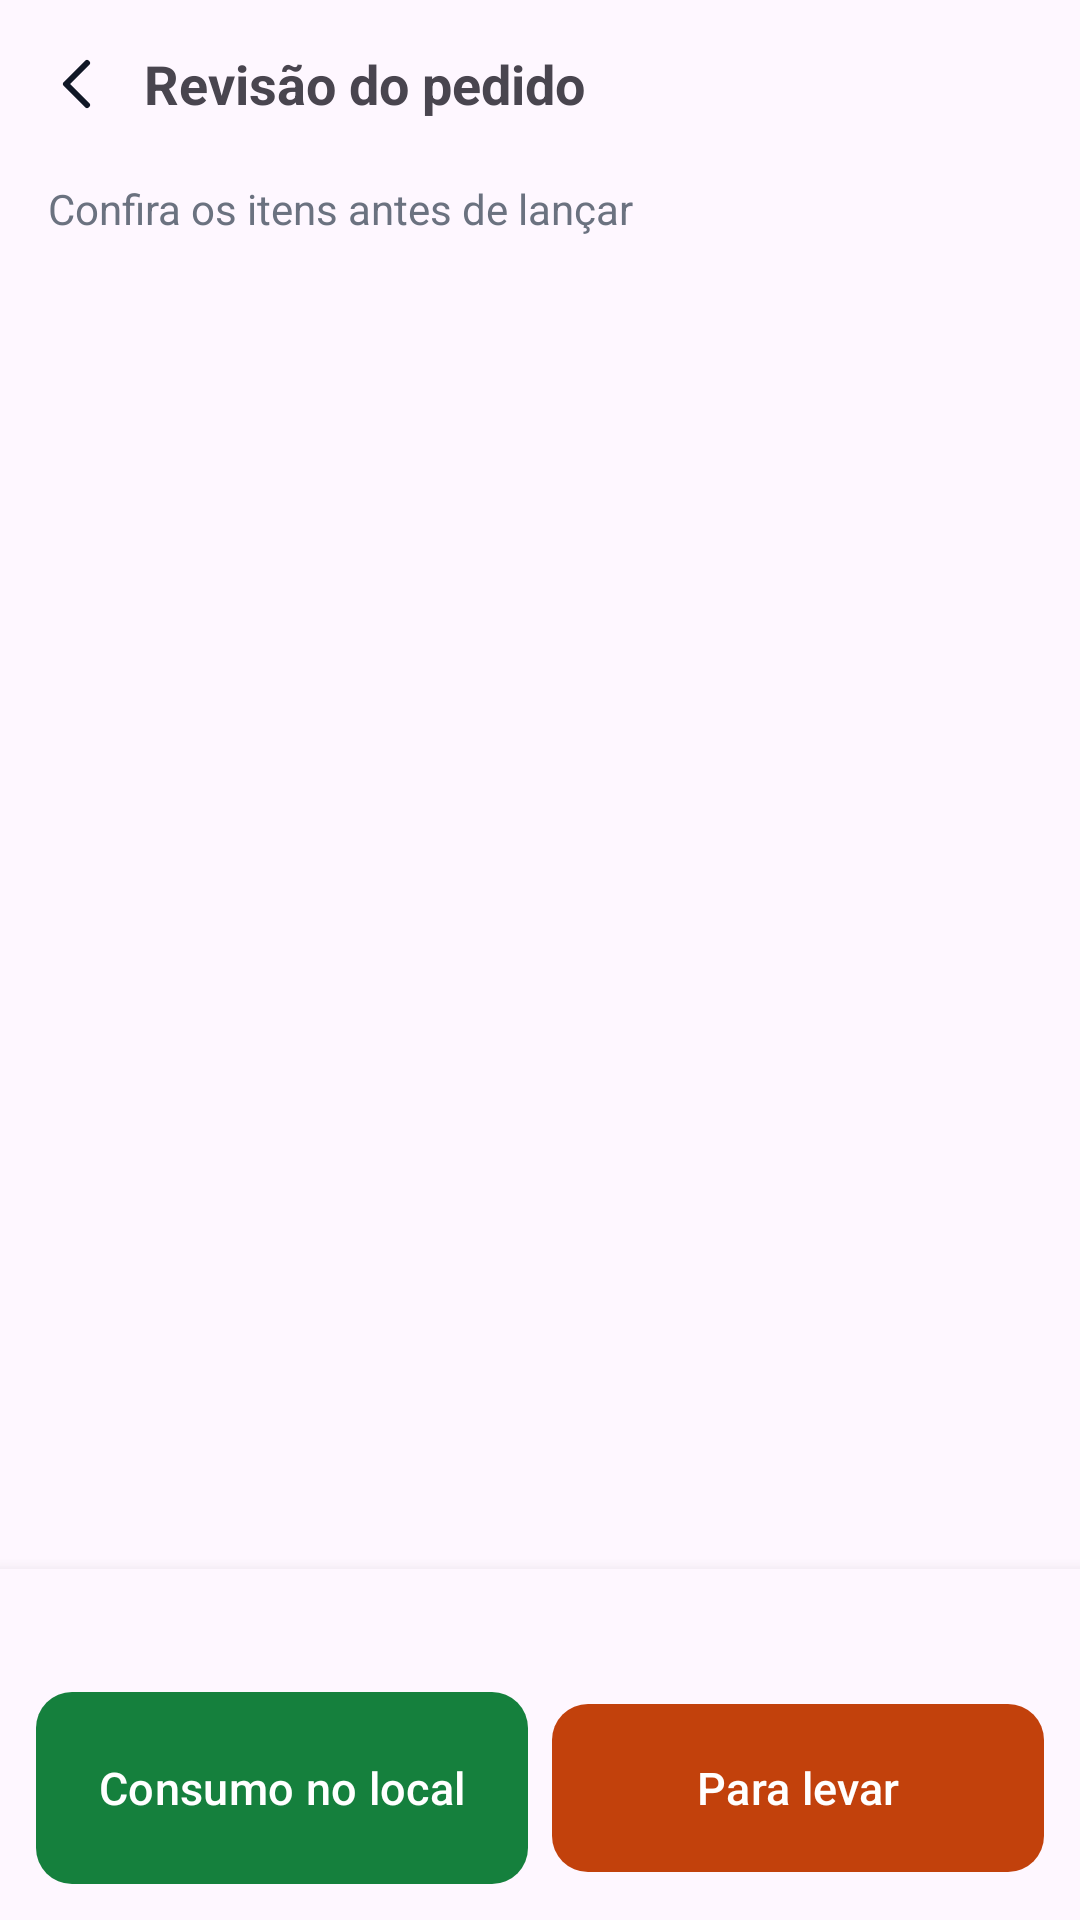

Icon click points for this 1080 x 1920 phone screenshot, format (x=x, y=y):
Voltar: (x=76, y=84)
